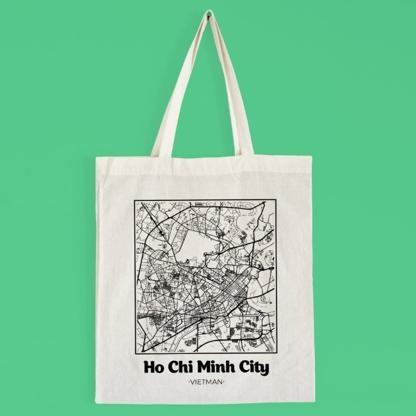not trash: (90, 13, 321, 404)
